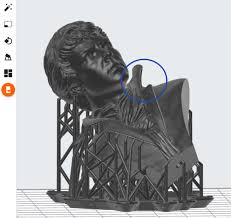Fail: (29, 15, 231, 217)
